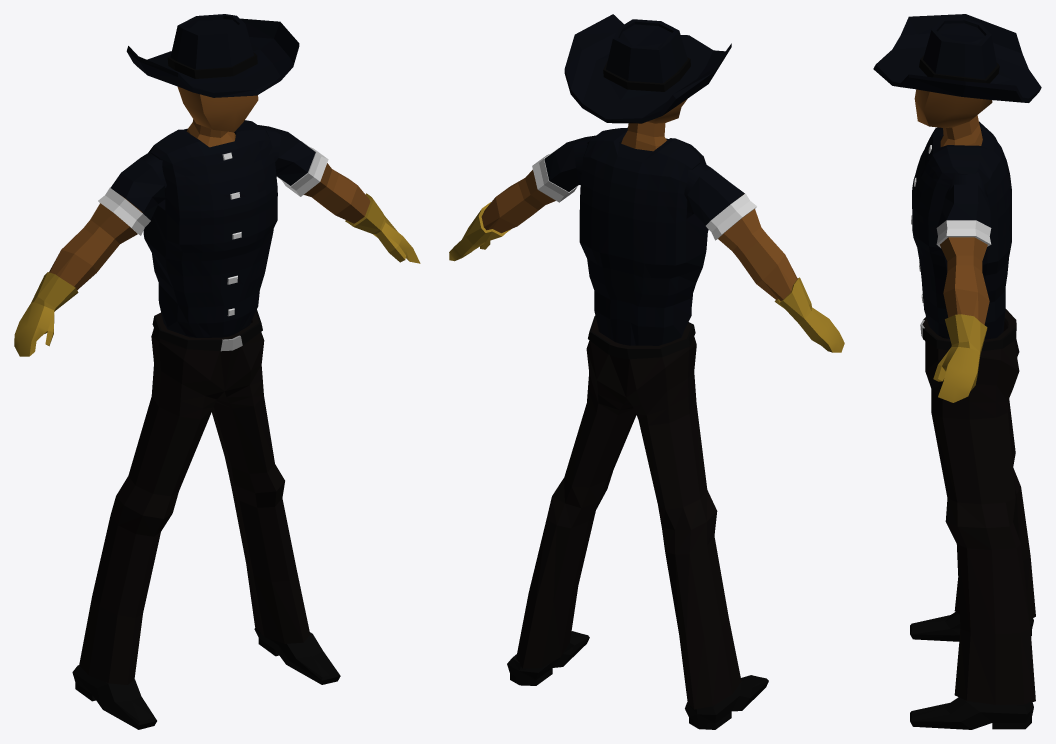
File: Cowboy_4.FBX
3 renders of one model, left to right at view 1: azimuth 30°, elevation 25°; view 2: azimuth 150°, elevation 25°; view 3: azimuth 270°, elevation 25°, orthographic. The views are drawn at different scales.
Visible parts, largest first — view 1: Trousers, Torso, Hat, Boot Right, Shirt, Right Arm, Head, Right Glove, Left Arm, Shirts cuffs, Left Glove, Belt (+1 smaller); view 2: Trousers, Torso, Hat, Shirt, Right Arm, Boot Right, Left Arm, Right Glove, Shirts cuffs, Head, Belt, Left Glove (+1 smaller); view 3: Trousers, Torso, Hat, Boot Right, Left Arm, Left Glove, Head, Shirt, Shirts cuffs, Belt, Hat Strap.
Part boxes in pixels (x1=…): Trousers: x1=79, y1=312, x2=310, y2=684; Torso: x1=143, y1=120, x2=277, y2=337; Hat: x1=126, y1=14, x2=299, y2=97; Boot Right: x1=72, y1=627, x2=340, y2=729; Shirt: x1=110, y1=125, x2=315, y2=219; Right Arm: x1=49, y1=195, x2=142, y2=290; Head: x1=177, y1=86, x2=258, y2=147; Right Glove: x1=14, y1=272, x2=78, y2=356; Left Arm: x1=304, y1=163, x2=370, y2=223; Shirts cuffs: x1=98, y1=141, x2=328, y2=235; Left Glove: x1=345, y1=193, x2=420, y2=263; Belt: x1=152, y1=309, x2=262, y2=351; Trousers: x1=516, y1=318, x2=741, y2=709; Torso: x1=579, y1=127, x2=708, y2=345; Hat: x1=564, y1=14, x2=731, y2=123; Shirt: x1=544, y1=135, x2=744, y2=225; Right Arm: x1=718, y1=194, x2=797, y2=300; Boot Right: x1=507, y1=631, x2=768, y2=729; Left Arm: x1=481, y1=169, x2=555, y2=233; Right Glove: x1=774, y1=277, x2=844, y2=352; Shirts cuffs: x1=532, y1=148, x2=756, y2=240; Head: x1=621, y1=99, x2=687, y2=151; Belt: x1=588, y1=315, x2=695, y2=359; Left Glove: x1=449, y1=202, x2=511, y2=261; Trousers: x1=922, y1=309, x2=1035, y2=704; Torso: x1=912, y1=121, x2=1011, y2=339; Hat: x1=873, y1=14, x2=1041, y2=102; Boot Right: x1=910, y1=612, x2=1033, y2=729; Left Arm: x1=940, y1=237, x2=989, y2=324; Left Glove: x1=933, y1=314, x2=987, y2=402; Head: x1=914, y1=89, x2=992, y2=146; Shirt: x1=937, y1=131, x2=990, y2=227; Shirts cuffs: x1=936, y1=220, x2=991, y2=247; Belt: x1=923, y1=317, x2=1016, y2=351; Hat Strap: x1=919, y1=55, x2=999, y2=83.
Size of the model in its own units: 94.28 by 151 by 35.63.
